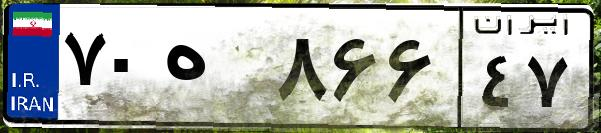0: (110, 28, 158, 98)
4: (475, 38, 525, 113)
6: (385, 28, 445, 110), (330, 28, 385, 110)
7: (57, 26, 110, 100), (525, 38, 570, 115)
8: (270, 28, 330, 110)
ه: (158, 20, 270, 120)
